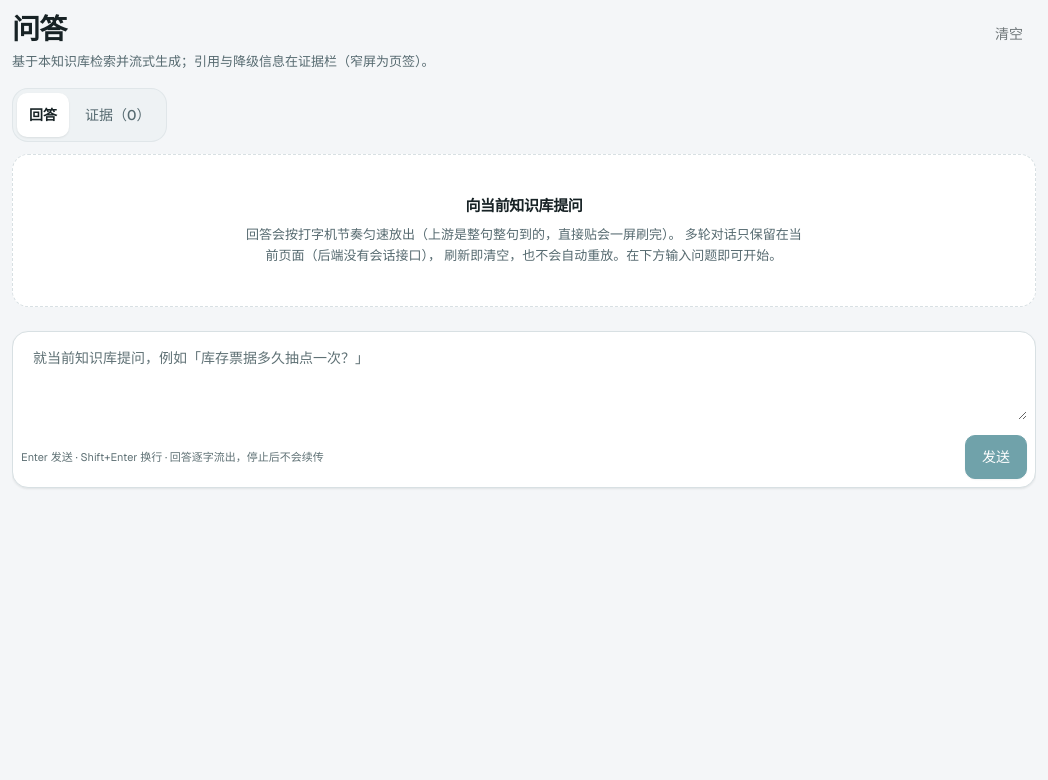
Scenario: features/chat/ChatScreen › 完整流：retrieval → token → token → done，正文逐字拼接并展示 run_id
Type "电源怎么接？" into the text box named "问题".
click(524, 380); type("电源怎么接？")  # box x1=21 y1=340 x2=1027 y2=420
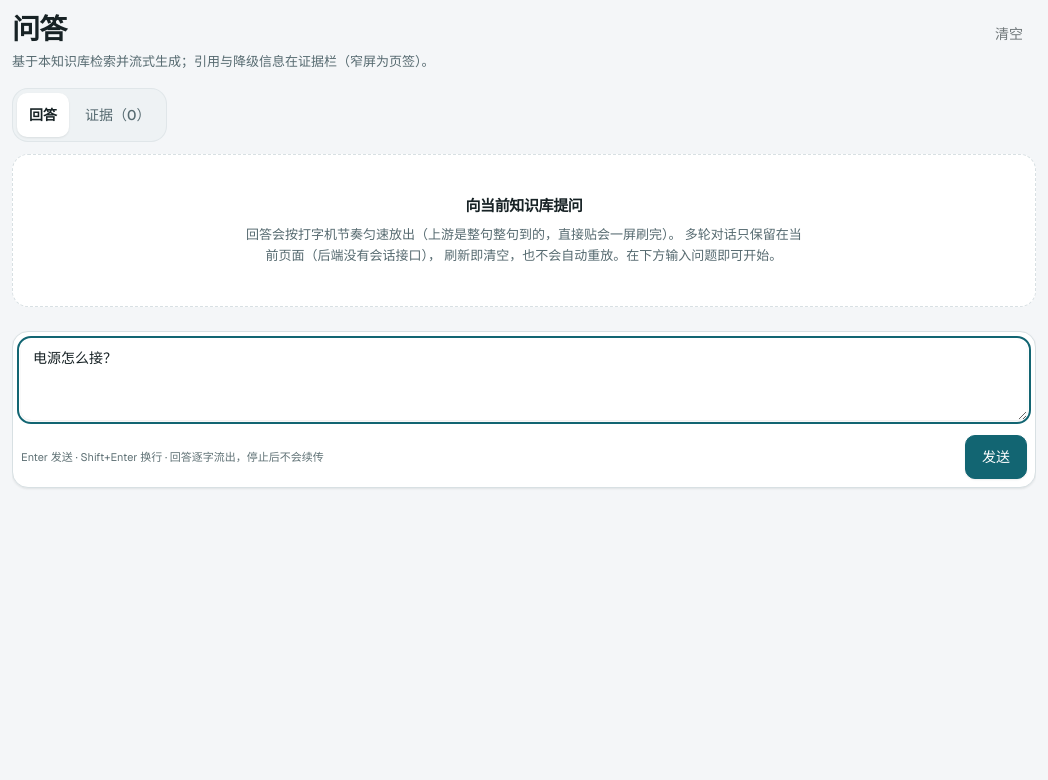
Click the button "发送".
click(996, 457)  # box x1=965 y1=435 x2=1027 y2=479
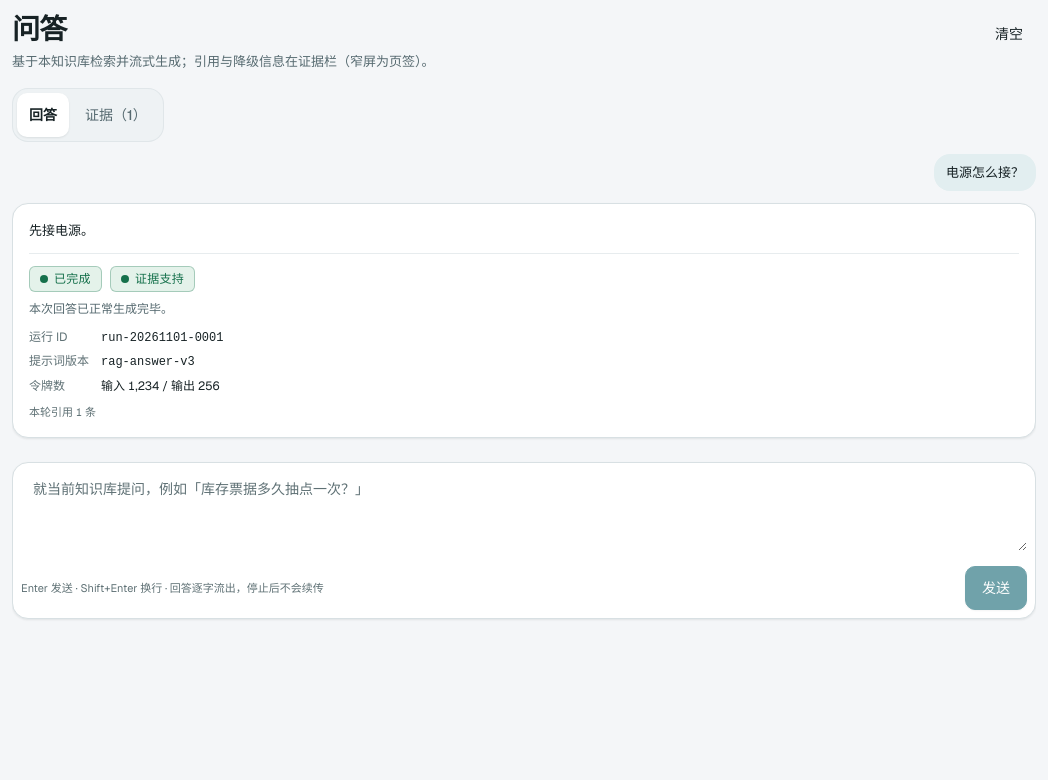
Expected: the element with test id "answer-body" reads "先接电源。", x1=29 y1=222 x2=94 y2=239
Expected: the text "已完成" is shown, x1=54 y1=269 x2=91 y2=289
Expected: the text "证据支持" is shown, x1=135 y1=269 x2=184 y2=289
